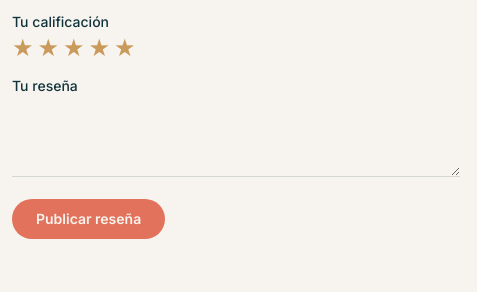
ResenaForm › muestra el error del backend
Type "Excelente lugar" into the text box labelled "Tu reseña". click: (236, 138)
box: [12,100,460,177]
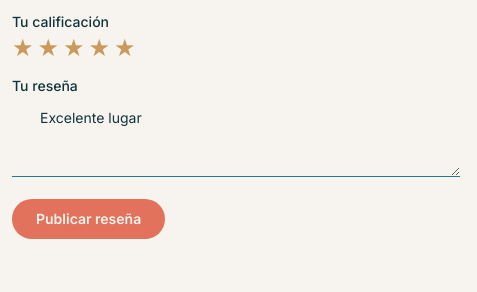
Click the button "Publicar reseña". click: click(89, 219)
box: [12,199,165,239]
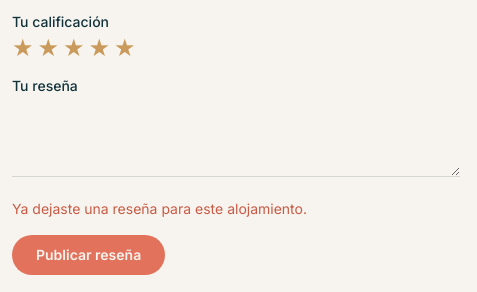
Now the message shows "Ya dejaste una reseña", box [12,200,307,217]
